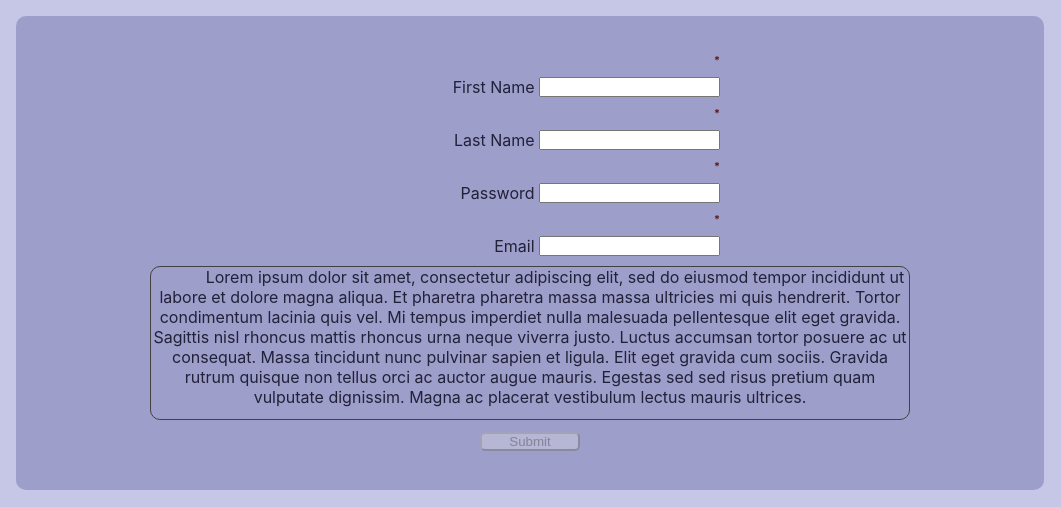
Test: jzform › Filling out Form and Submit › ERROR check: password needs to be over 8 characters
The image size is (1061, 507).
Step 1. Type "1234567" into the password field named "password" → (630, 194), box [539,184,720,204]
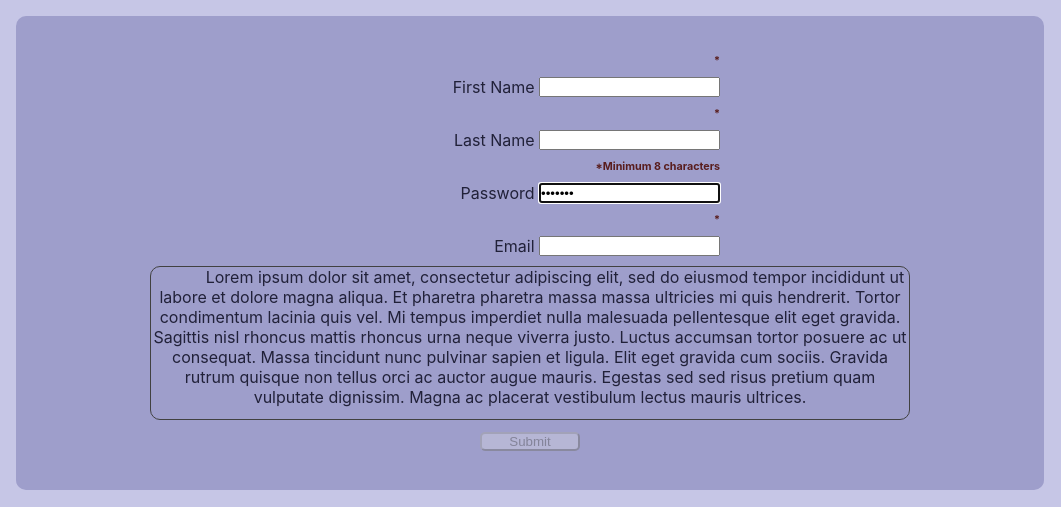
Now the heading "*Minimum 8 characters" is shown, box [596,160,720,174]
